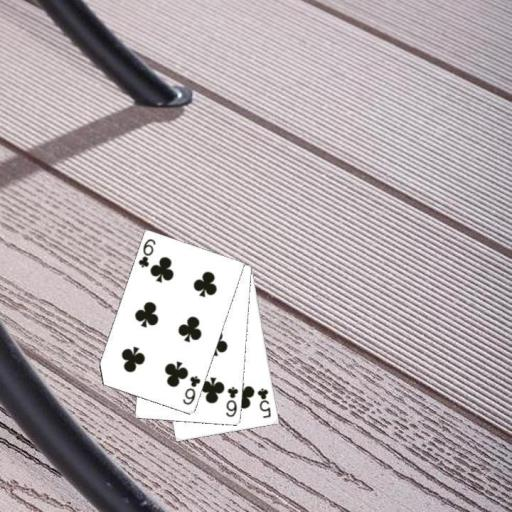5C: (255, 386, 273, 420)
6C: (179, 373, 202, 407), (135, 236, 157, 270), (223, 384, 240, 419)
